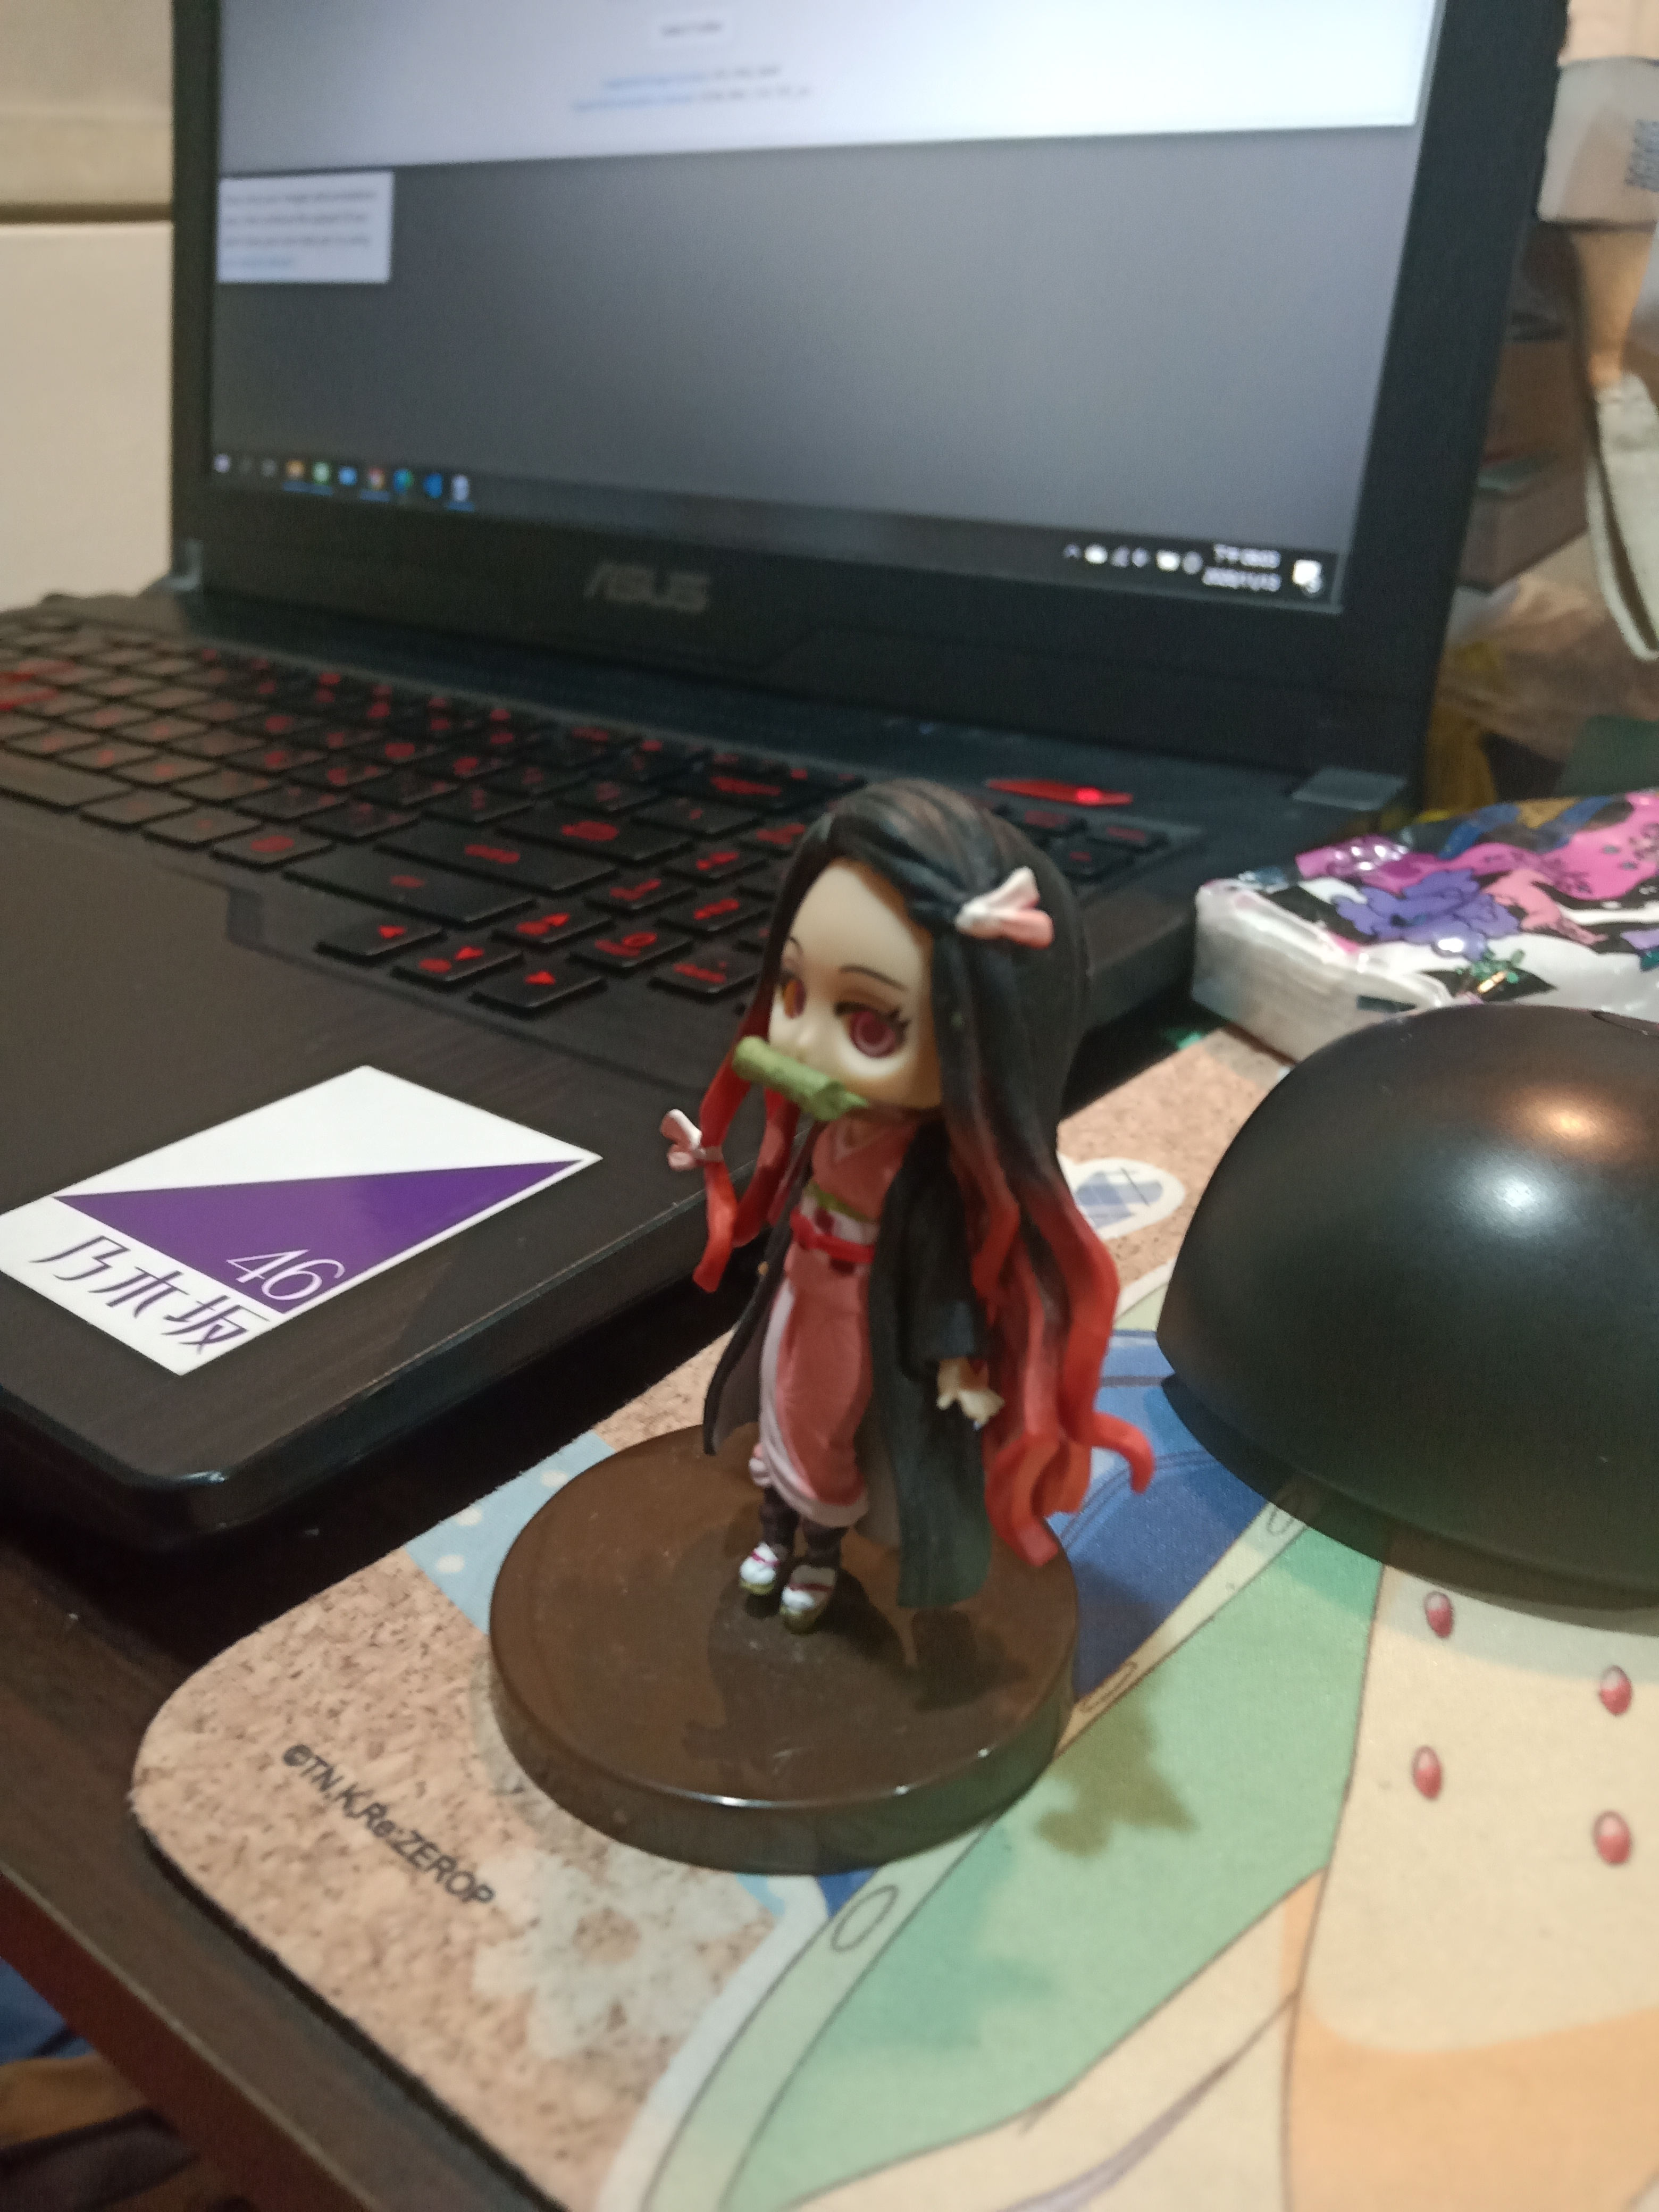Nezuko: (477, 765, 1175, 1892)
